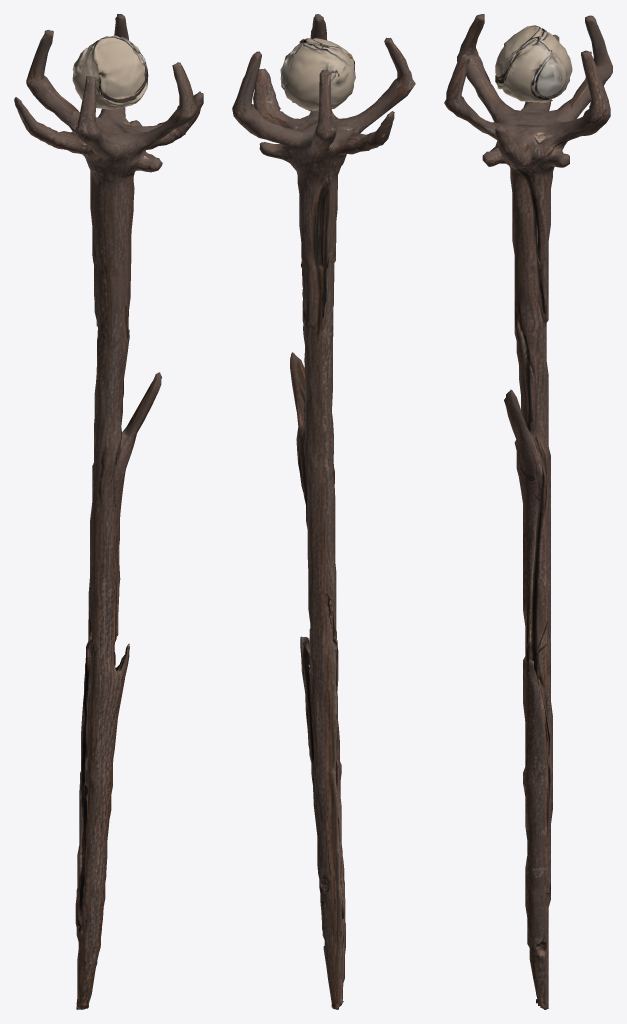
The model's file is staff.fbx.
3 views of the same model, side by side, from view 1: azimuth 30°, elevation 25°; view 2: azimuth 150°, elevation 25°; view 3: azimuth 270°, elevation 25° (orthographic). The views are drawn at different scales.
Parts seen in each view (by area): view 1: meshes[0]; view 2: meshes[0]; view 3: meshes[0].
Boxes of the visible parts, left/top/right/bottom form: meshes[0]: left=14, top=14, right=203, bottom=1009; meshes[0]: left=232, top=14, right=415, bottom=1009; meshes[0]: left=444, top=14, right=612, bottom=1009.
Size of the model in its own units: 0.1738 by 0.998 by 0.1543.
